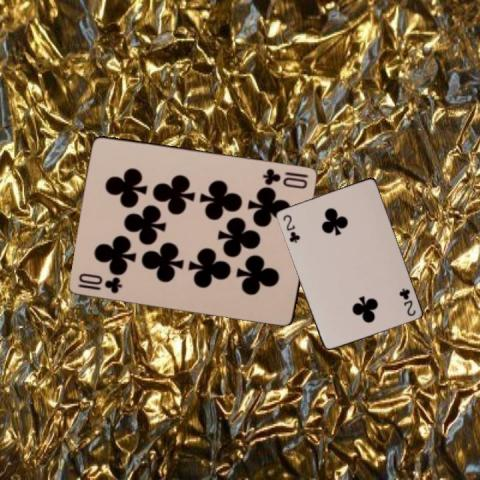10c: (260, 165, 311, 190), (75, 270, 124, 295)
2c: (280, 211, 301, 244), (396, 286, 417, 318)
